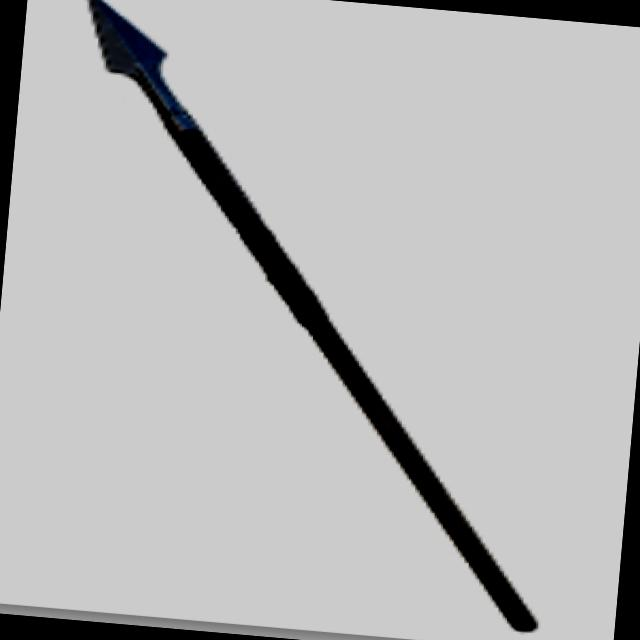spear: (0, 0, 593, 640)
